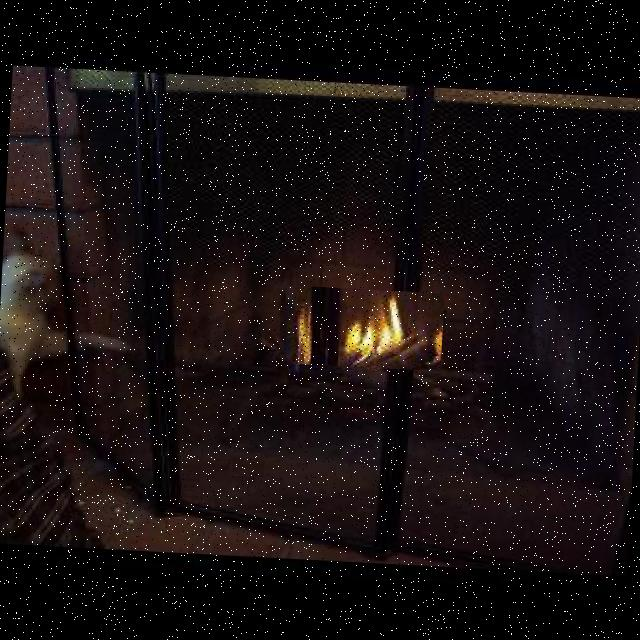fire: (282, 286, 444, 372)
